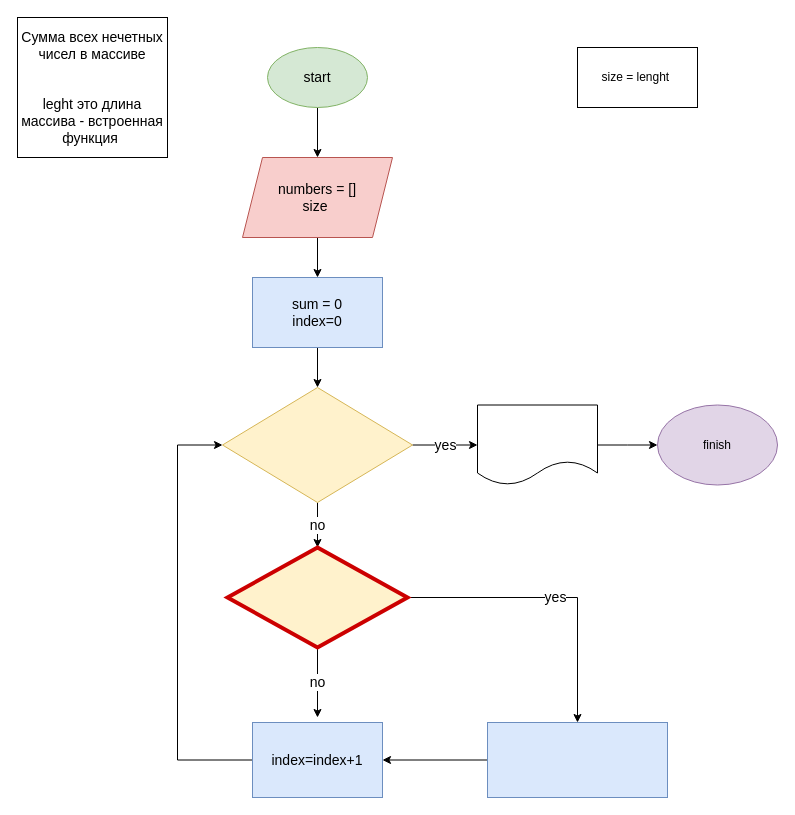
Some shapes in this 795 by 815 pixel diagram are drawn without their labels. The centre of each missing label's shape, as x and y in pixels:
"index<size" belongs at point 317,444.
"numbers[index]%2=1?" belongs at point 317,597.
"sum" belongs at point 537,444.
"sum=sum + number[index]" belongs at point 577,760.
